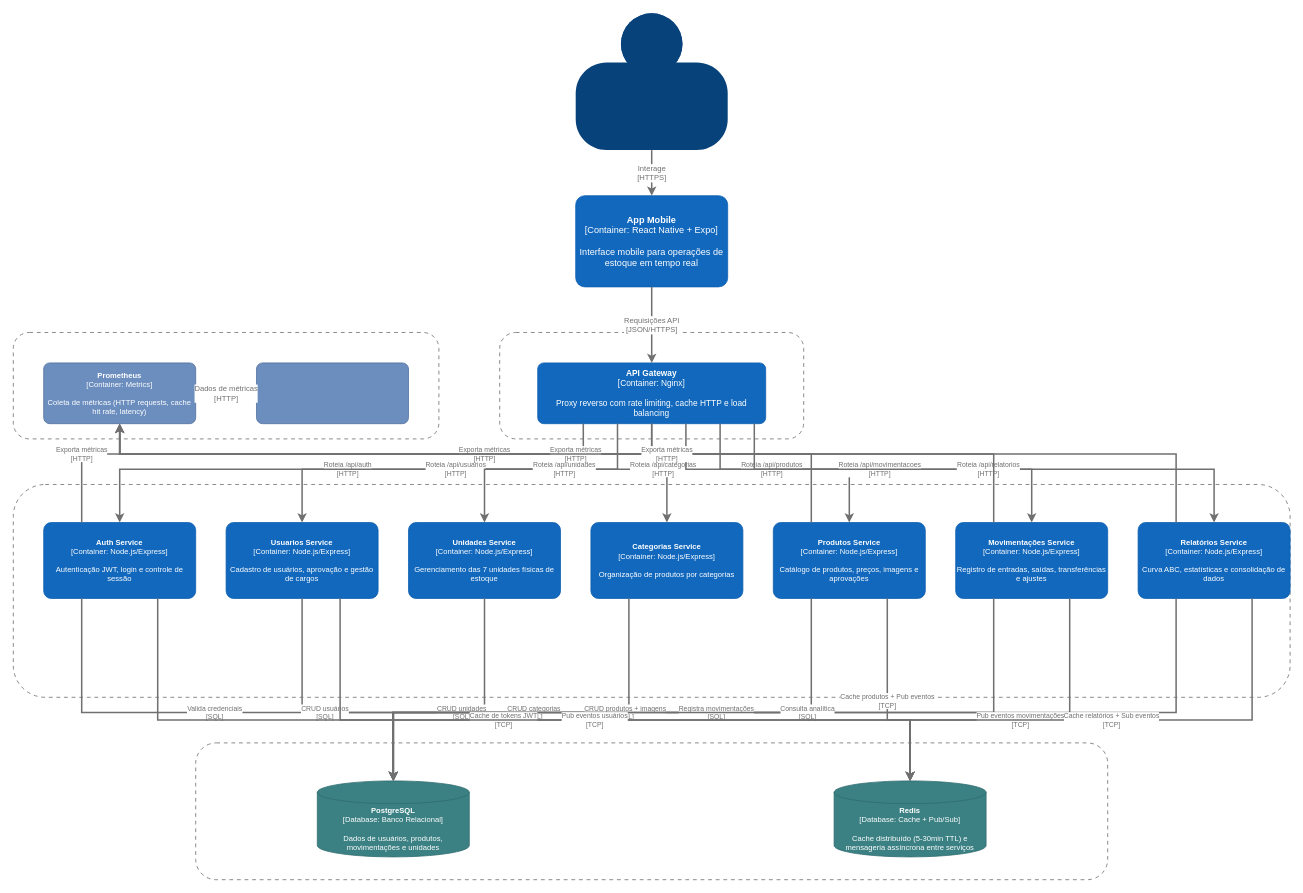
Image size: 1303x893. Some labels were removed from this diagram. The shapes that lost their labels are listed below. From the top down, each one's box as (x1, y1, x2, y2) in pixels, then its label:
(575, 13, 727, 150): Usuário do Sistema [Person] Gerente, Estoquista ou Financeiro
(13, 332, 439, 439): Camada de Observabilidade
(256, 362, 408, 424): Grafana [Container: Dashboards] Visualização de métricas e alertas
(499, 332, 804, 439): Camada de Gateway
(13, 484, 1290, 697): Camada de Microserviços
(195, 742, 1108, 880): Camada de Dados
